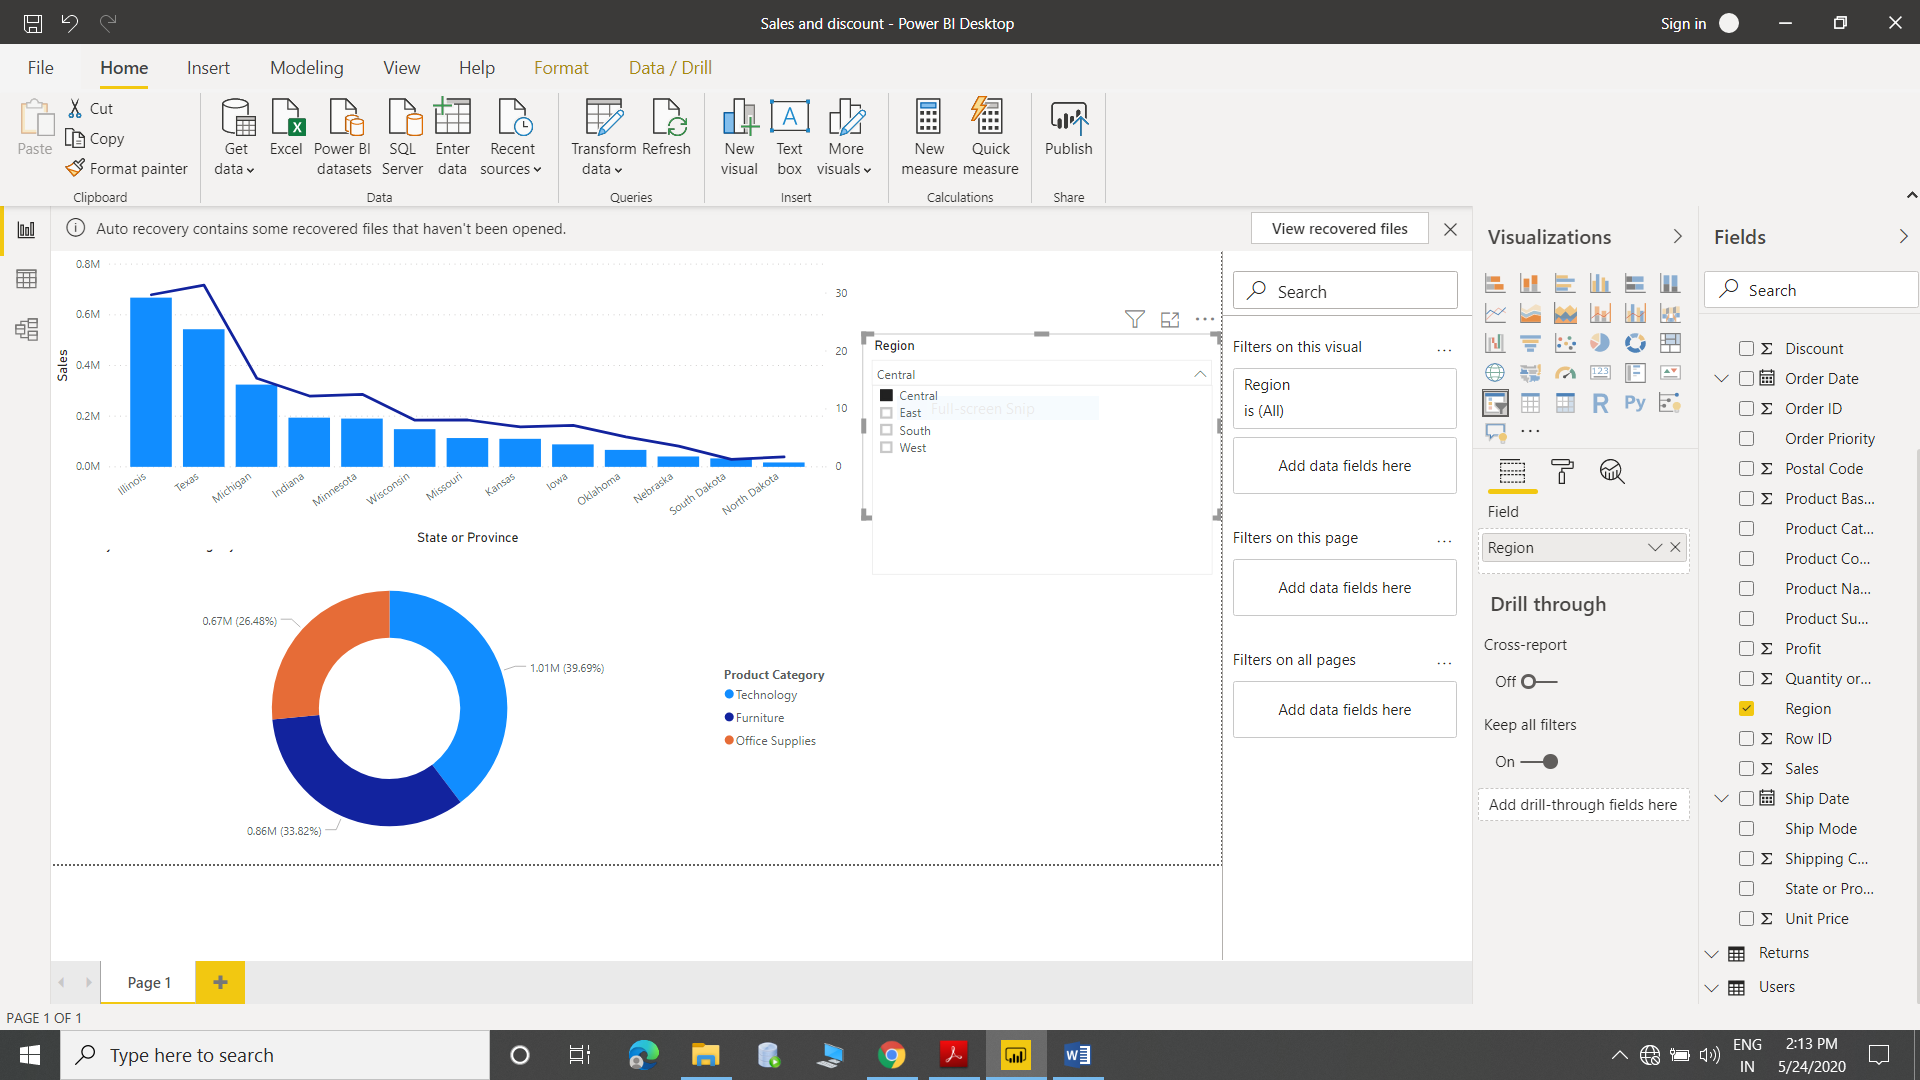

What the dashboard file says about the page in this screenshot:
{"tool":"powerbi","page":{"name":"Page 1","canvas":[1280,720],"ordinal":0},"visuals":[{"type":"donutChart","fields":{"Category":["Orders.Product Category"],"Y":["Sum(Orders.Sales)"]},"box":[0,359.7,867,361],"z":0},{"type":"lineClusteredColumnComboChart","fields":{"Category":["Orders.State or Province"],"Y2":["Sum(Orders.Discount)"],"Y":["Sum(Orders.Sales)"]},"box":[0,0,876.6,376.1],"z":1},{"type":"slicer","fields":{"Values":["Orders.Region"]},"box":[887.5,139.5,392.5,203.8],"z":2}]}

Visuals, with their boxes on the page's 1280x720 design canvas (x1, y1, x2, y2). These are canvas units, not pixel positions in the 1920x1080 screenshot, which may show the page scaled, cropped or inside an application window:
donutChart - Orders.Product Category x Sum(Orders.Sales): bbox=(0, 360, 867, 721)
lineClusteredColumnComboChart - Orders.State or Province x Sum(Orders.Discount): bbox=(0, 0, 877, 376)
slicer - Orders.Region: bbox=(888, 140, 1280, 343)
